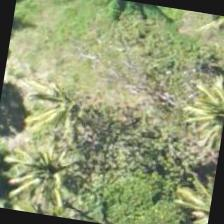Kelapa_Sawit: (7, 51, 110, 154), (0, 122, 101, 222)
